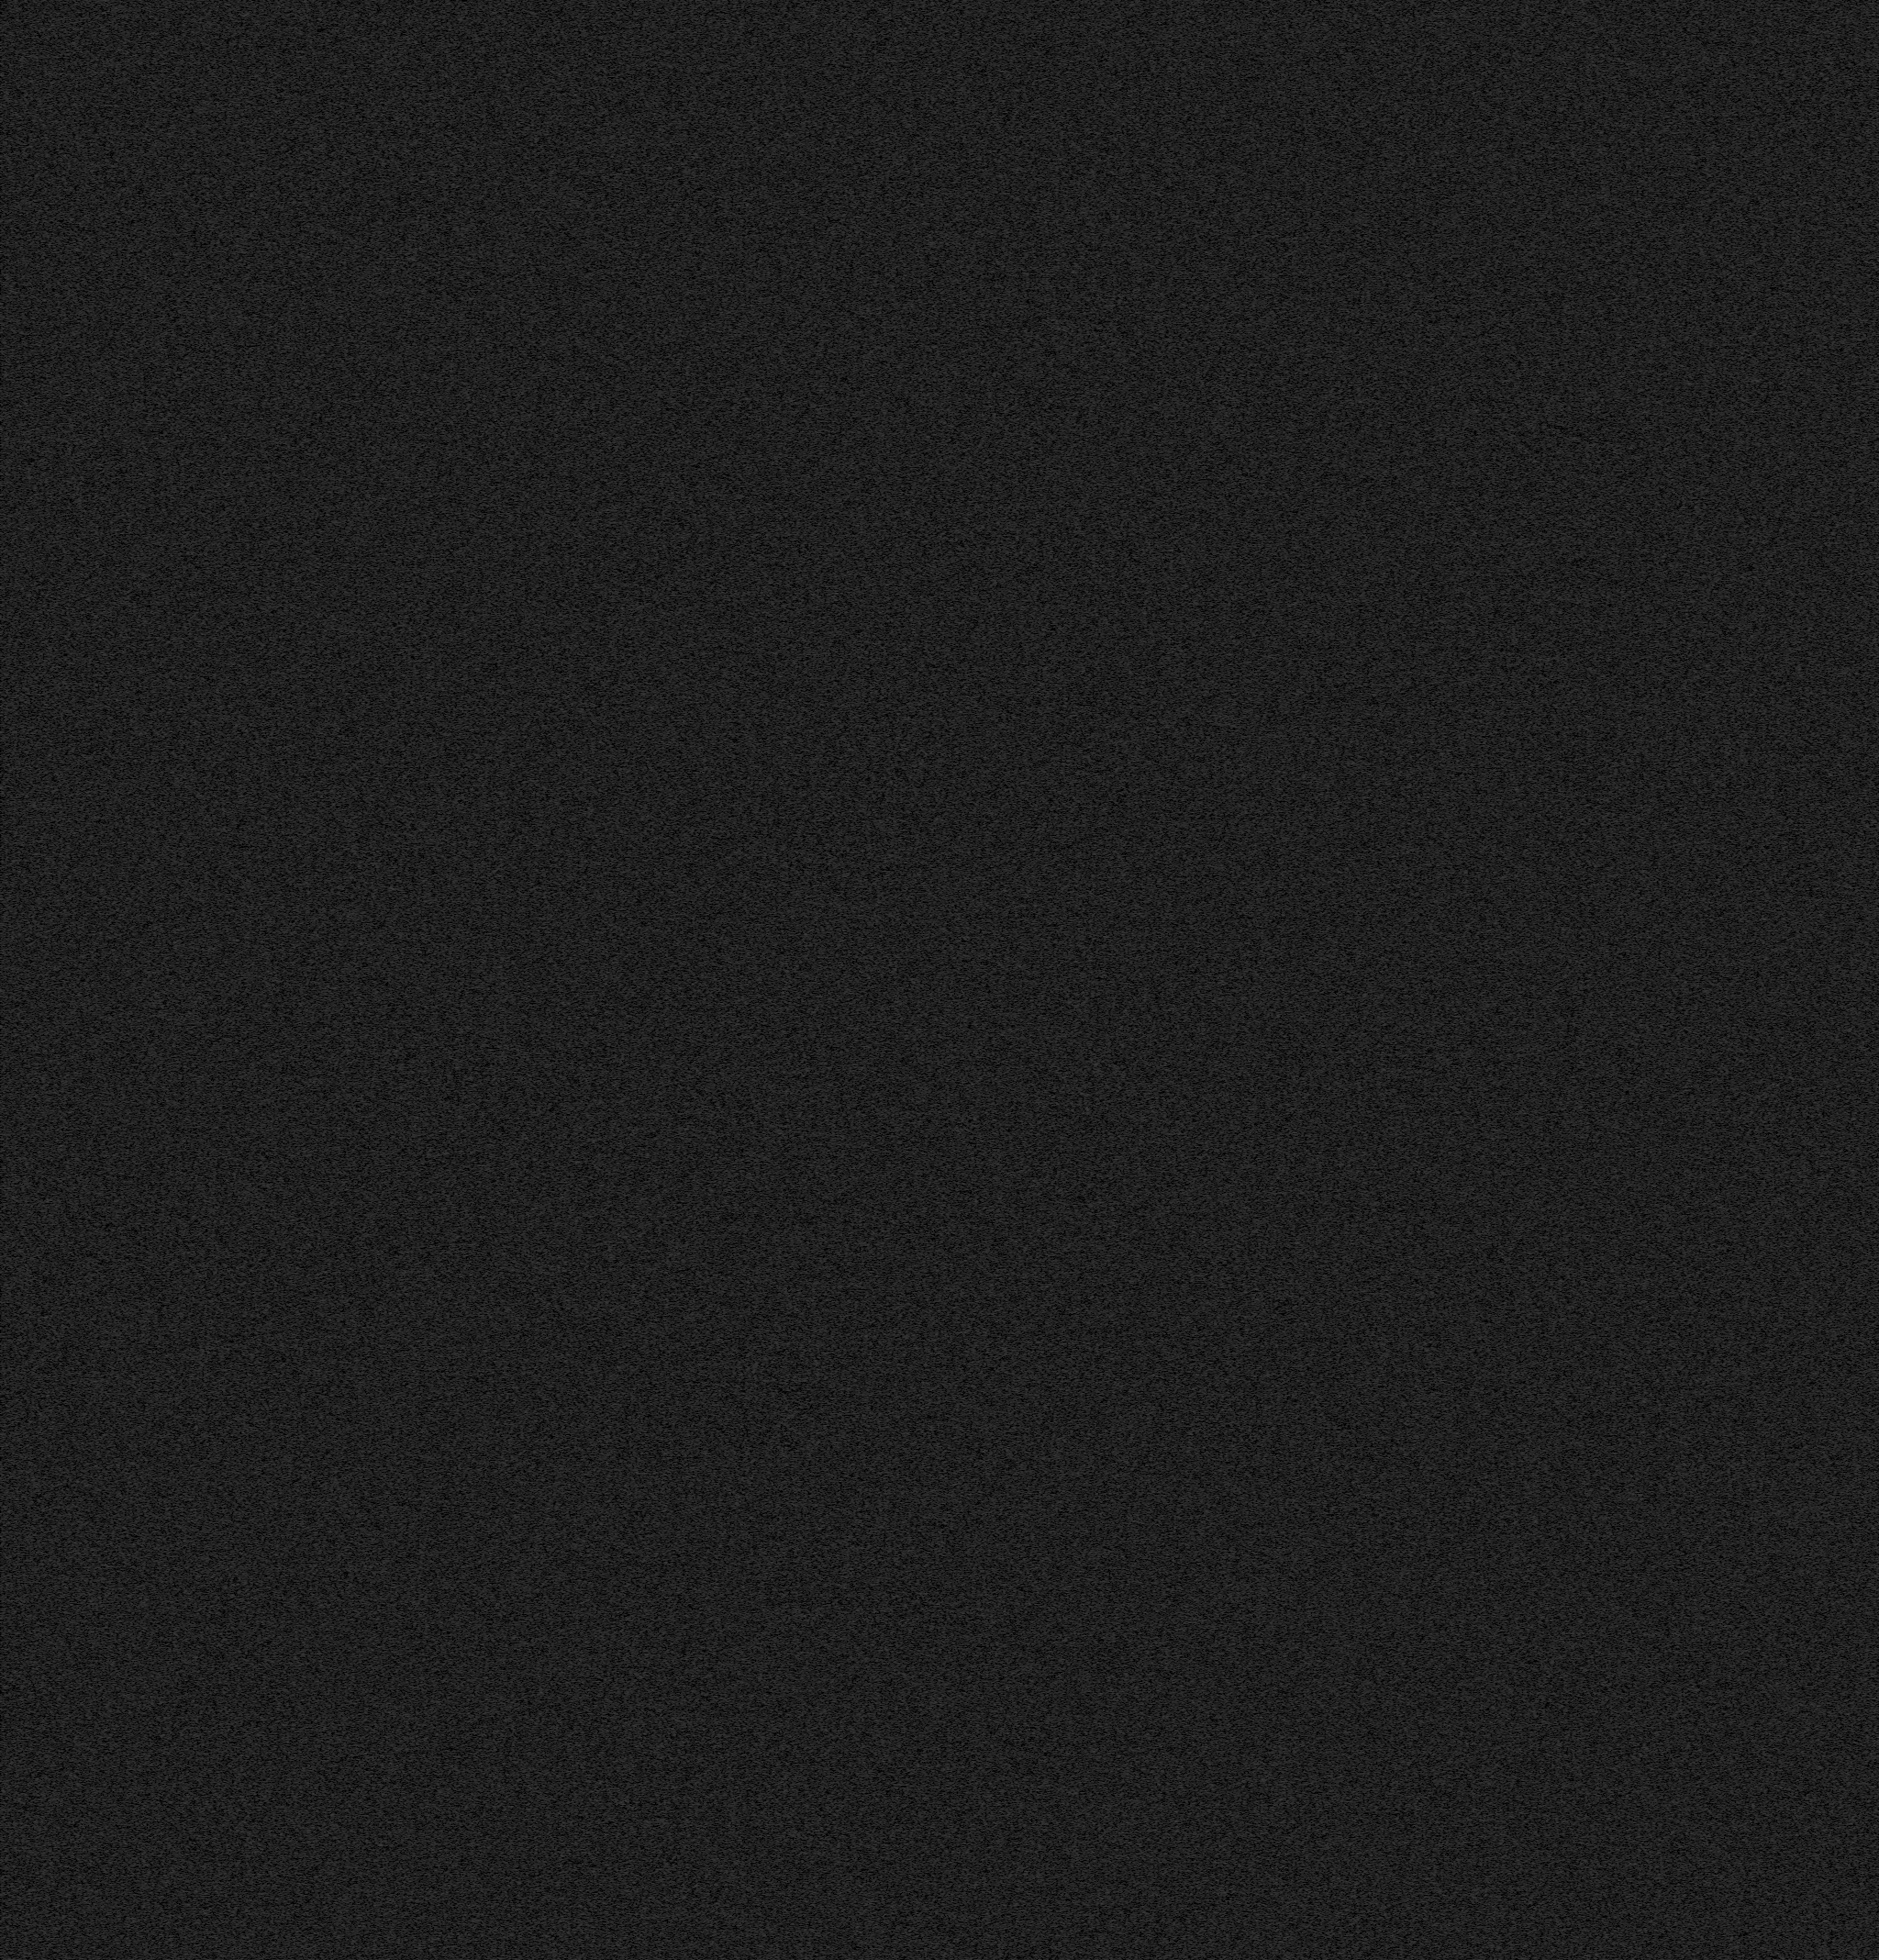wv_am: (992, 2, 997, 782), (992, 788, 997, 1202), (992, 1269, 997, 1585), (992, 1802, 997, 1958), (992, 1589, 997, 1656), (992, 1706, 997, 1755), (992, 1661, 997, 1698), (992, 1761, 997, 1792), (992, 1234, 997, 1262), (992, 1206, 997, 1230), (994, 1264, 997, 1267)
wv_lsb: (285, 186, 290, 278), (285, 1076, 290, 1108), (285, 665, 290, 695), (285, 999, 290, 1027), (285, 1762, 290, 1790), (285, 74, 289, 114), (285, 9, 290, 35), (285, 698, 290, 723), (285, 581, 290, 606), (285, 544, 290, 569), (285, 397, 290, 422), (285, 889, 290, 912), (285, 865, 290, 887), (285, 842, 290, 865), (285, 817, 290, 840), (285, 723, 290, 745), (285, 439, 290, 457), (285, 297, 290, 315), (285, 1363, 289, 1388), (285, 982, 290, 998), (285, 499, 290, 514), (285, 926, 289, 948), (285, 770, 289, 793), (285, 745, 289, 768), (285, 422, 290, 436), (285, 350, 290, 364), (285, 163, 289, 184), (285, 119, 289, 140), (285, 1620, 289, 1642), (285, 1176, 289, 1195), (285, 1402, 289, 1421), (285, 1029, 290, 1041), (285, 913, 290, 926), (285, 1057, 290, 1067), (285, 481, 289, 497), (285, 387, 290, 397), (285, 327, 290, 338), (285, 52, 289, 68), (285, 35, 289, 49), (285, 1111, 290, 1120), (285, 364, 290, 373), (285, 959, 289, 971), (285, 794, 289, 807), (285, 628, 289, 640), (285, 315, 289, 327), (285, 147, 289, 159), (285, 1524, 289, 1537), (285, 1137, 290, 1145), (285, 948, 289, 959), (285, 807, 289, 817), (285, 612, 289, 623), (285, 458, 289, 469), (285, 1804, 289, 1815), (285, 1792, 289, 1802), (285, 1710, 289, 1720), (285, 1683, 289, 1694), (285, 1657, 289, 1668), (285, 1577, 289, 1587), (285, 1549, 289, 1559), (285, 1470, 289, 1481), (285, 1165, 289, 1174), (285, 1043, 289, 1052), (285, 642, 289, 651), (285, 530, 289, 539), (285, 341, 289, 350), (285, 1897, 289, 1906), (285, 1885, 289, 1893), (285, 1871, 289, 1880), (285, 1845, 289, 1853), (285, 1818, 289, 1827), (285, 1738, 289, 1747), (285, 1538, 289, 1547), (285, 1486, 289, 1494), (285, 1325, 289, 1334), (285, 1272, 289, 1281), (285, 1218, 289, 1227), (285, 380, 290, 385), (285, 1129, 289, 1136), (285, 606, 289, 612), (285, 1726, 289, 1733), (285, 1607, 289, 1613), (285, 1568, 289, 1575), (285, 1516, 289, 1522), (285, 1449, 289, 1456), (285, 1442, 289, 1449), (285, 1262, 289, 1269), (285, 1206, 289, 1211), (285, 1157, 289, 1162), (285, 1122, 289, 1127), (285, 653, 289, 658), (285, 523, 289, 529), (285, 292, 289, 297), (285, 285, 290, 289), (285, 142, 289, 147), (285, 1836, 289, 1841), (285, 1675, 289, 1680), (285, 1594, 289, 1600), (285, 1496, 289, 1501), (285, 1435, 289, 1440), (285, 1397, 289, 1402), (285, 1356, 289, 1362), (285, 1342, 289, 1347), (285, 1316, 289, 1321), (285, 1290, 289, 1295), (285, 1283, 289, 1288), (285, 1244, 289, 1249), (285, 1236, 289, 1241), (287, 1752, 289, 1761), (285, 1199, 289, 1202), (285, 1145, 289, 1148), (285, 1069, 289, 1073), (285, 660, 289, 663), (285, 571, 289, 574), (285, 476, 289, 480), (287, 1860, 289, 1867), (285, 1510, 289, 1514), (285, 1503, 289, 1507), (285, 1463, 289, 1466), (285, 1458, 289, 1461), (285, 1423, 289, 1426), (285, 1351, 289, 1355), (285, 1337, 289, 1340), (285, 1311, 289, 1314), (285, 1304, 289, 1307), (285, 1299, 289, 1302), (285, 1258, 289, 1262), (285, 1251, 289, 1255), (285, 1230, 289, 1234), (287, 1829, 289, 1834), (287, 1701, 289, 1706), (287, 1390, 289, 1395), (285, 518, 289, 520), (285, 280, 289, 282), (285, 70, 289, 72), (287, 1671, 289, 1675), (285, 1617, 289, 1619), (287, 1153, 289, 1155), (287, 1648, 289, 1650)
wv_usb: (1326, 1398, 1331, 1958), (1326, 10, 1330, 406), (1326, 894, 1330, 1069), (1326, 458, 1330, 625), (1326, 1171, 1331, 1264), (1326, 1265, 1330, 1397), (1326, 665, 1330, 777), (1326, 1069, 1330, 1169), (1326, 844, 1330, 894), (1326, 777, 1330, 821), (1326, 626, 1330, 660), (1326, 425, 1330, 448), (1326, 821, 1330, 838), (1326, 406, 1330, 424), (537, 1383, 541, 1395), (537, 1829, 541, 1839), (537, 1524, 541, 1535), (537, 1447, 541, 1458), (537, 1410, 541, 1421), (537, 1865, 541, 1876), (537, 1792, 541, 1801), (537, 1778, 541, 1787), (537, 1538, 541, 1547), (1326, 448, 1330, 457), (537, 1512, 541, 1521), (537, 1486, 541, 1494), (537, 1474, 541, 1482), (537, 1437, 541, 1446), (537, 1423, 541, 1431), (537, 1398, 541, 1407), (537, 1887, 541, 1895), (537, 1820, 541, 1827), (537, 1552, 541, 1559), (537, 1500, 541, 1507), (537, 1374, 541, 1381), (537, 1906, 541, 1913), (537, 1850, 541, 1857), (537, 1944, 541, 1950), (537, 1813, 541, 1818), (537, 1802, 541, 1808), (537, 1934, 541, 1939), (537, 1463, 541, 1468), (537, 1925, 541, 1930), (537, 1789, 541, 1792), (539, 1566, 541, 1573), (1326, 662, 1330, 665), (537, 1913, 541, 1916), (539, 1918, 541, 1923), (539, 1953, 541, 1956), (1326, 840, 1330, 842), (539, 833, 541, 837), (539, 278, 541, 280)
